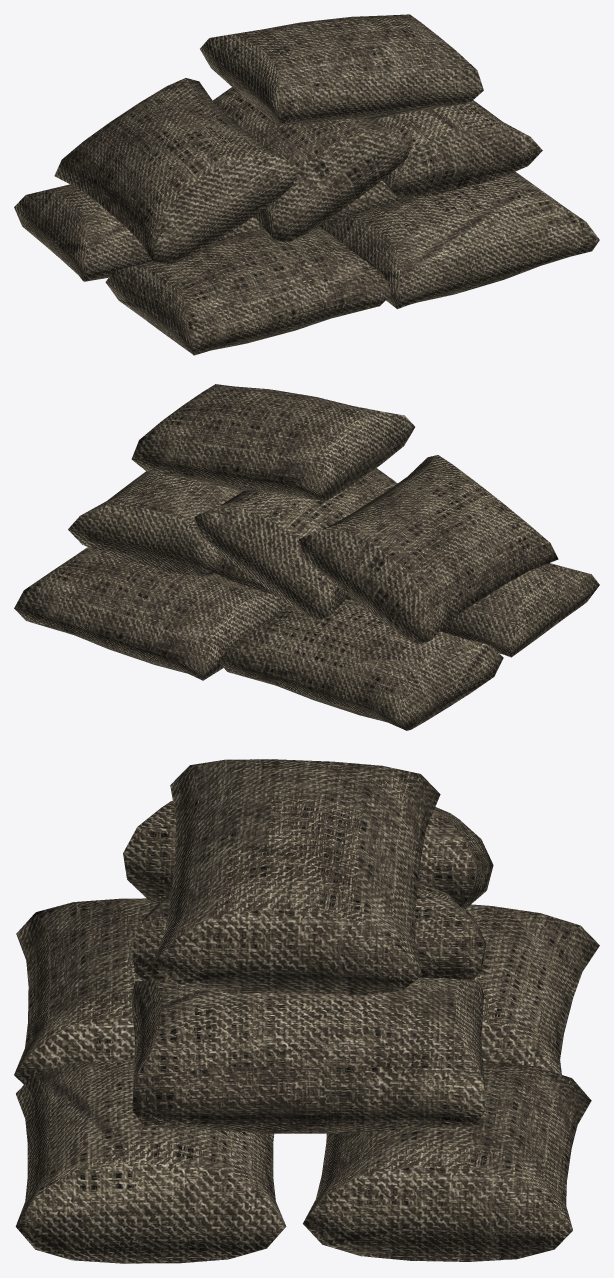
The model's file is Sack_3.FBX.
The picture shows the model from 3 angles, top to bottom: view 1: azimuth 30°, elevation 25°; view 2: azimuth 150°, elevation 25°; view 3: azimuth 270°, elevation 25°; orthographic projection. The views are drawn at different scales.
Parts seen in each view (by area): view 1: mesh; view 2: mesh; view 3: mesh.
Boxes of the visible parts, x1,y1,x2,y2 form: mesh: (14, 14, 599, 355); mesh: (14, 384, 599, 730); mesh: (14, 759, 599, 1263).
Bounding box in the file's own units: 168 × 133 × 91.18.
